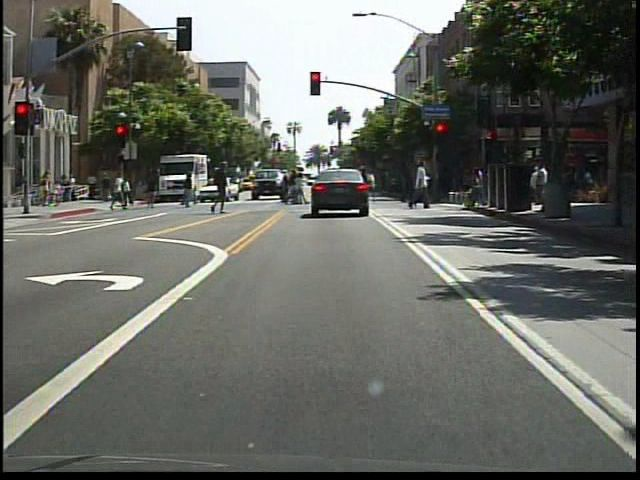person: (208, 163, 235, 220), (407, 159, 435, 212), (326, 168, 348, 215), (111, 172, 130, 218), (180, 171, 200, 212)
